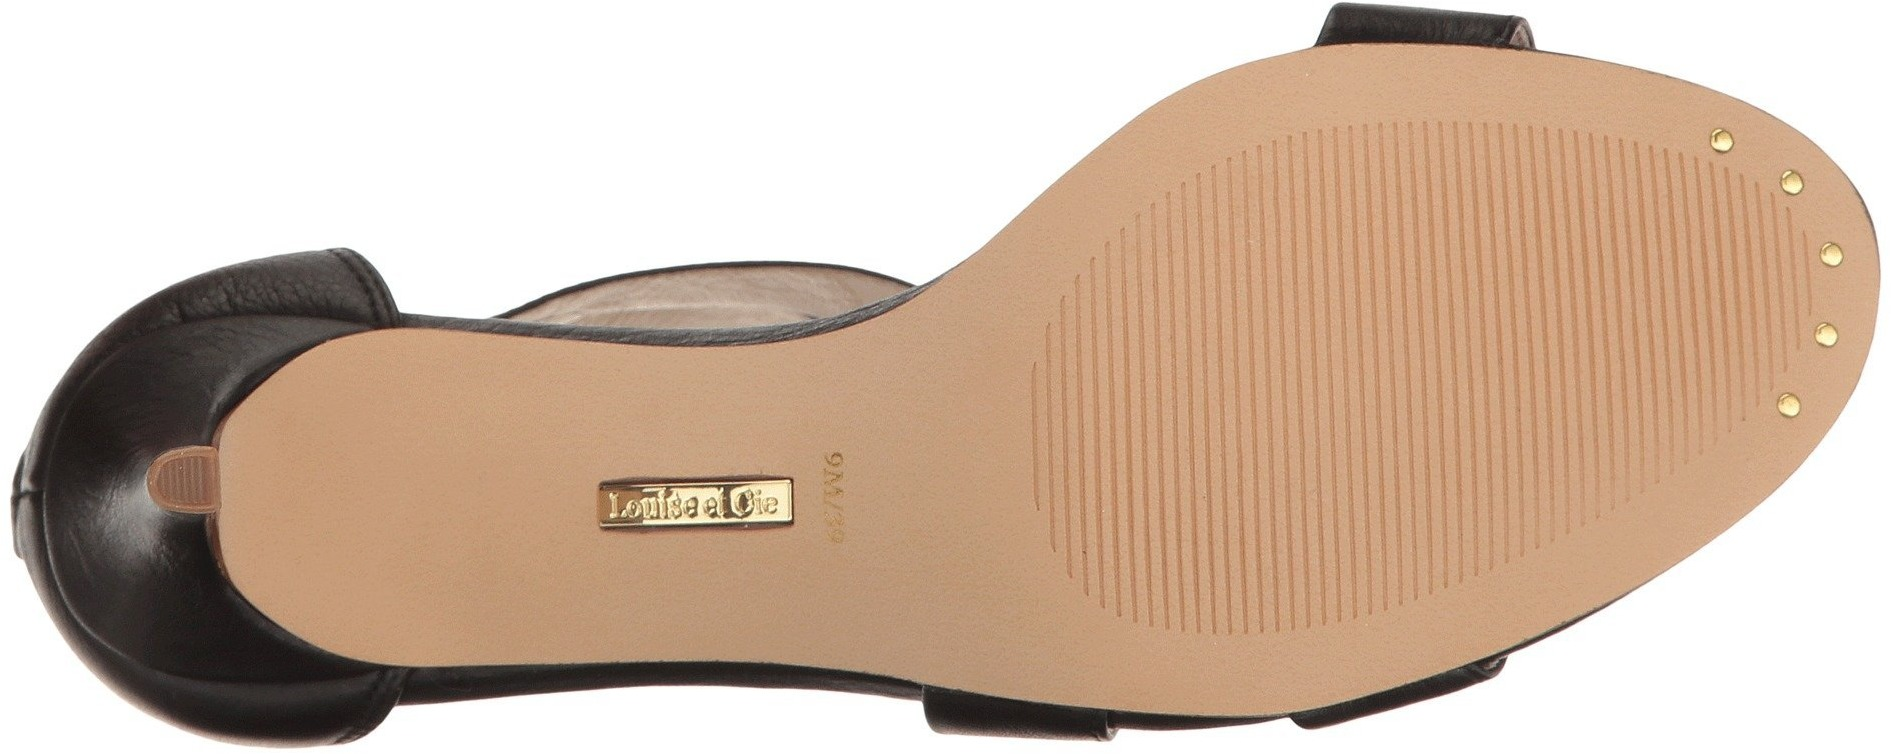circle: (1766, 154, 1822, 210), (1698, 115, 1747, 166), (1802, 310, 1852, 358), (1808, 232, 1861, 277), (1763, 382, 1816, 426)
exclude: (0, 215, 258, 752)
other: (160, 452, 213, 505)
